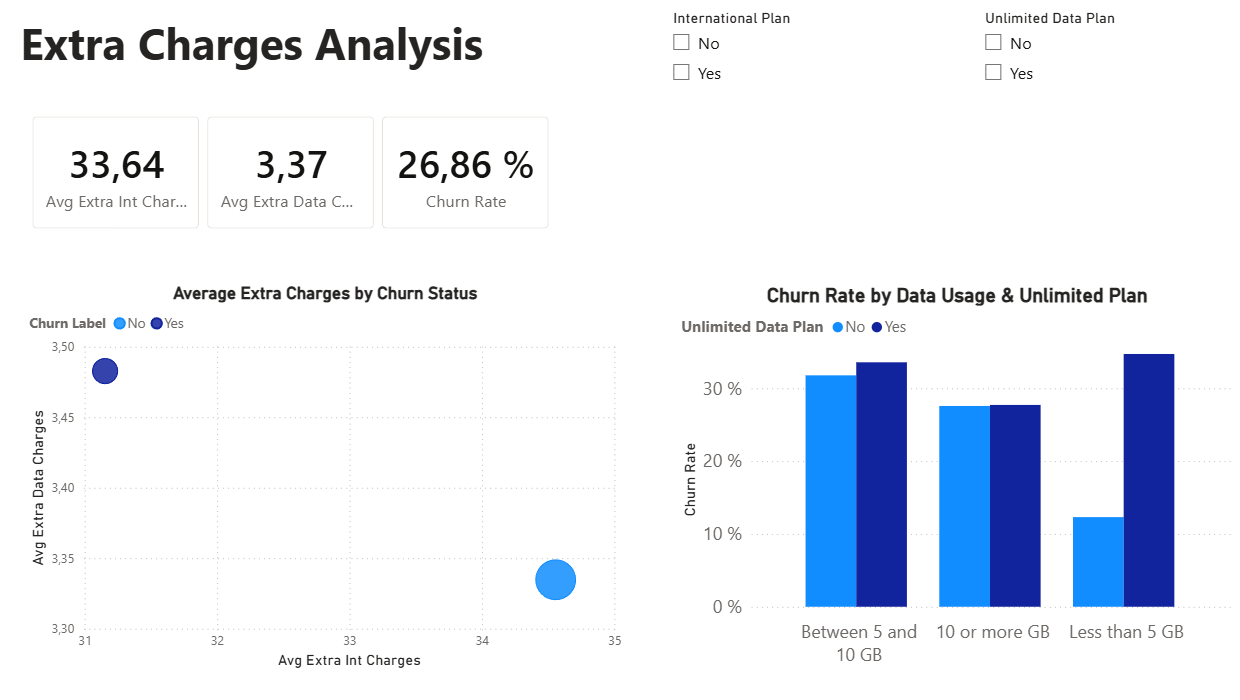

This screenshot's page, from the dashboard's own definition file:
{"tool":"powerbi","page":{"name":"Extra Charges","canvas":[1280,720],"ordinal":3},"visuals":[{"type":"clusteredColumnChart","title":"Churn Rate by Data Usage & Unlimited Plan","fields":{"Category":["Databel - Data.Grouped Consumption"],"Y":["Databel - Data.Churn Rate"],"Series":["Databel - Data.Unlimited Data Plan"]},"box":[687.4,292.1,547.2,379.6],"z":0},{"type":"cardVisual","fields":{"Data":["Databel - Data.Avg Extra Int Charges","Databel - Data.Avg Extra Data Charges","Databel - Data.Churn Rate"]},"box":[44.3,112.8,538.8,143.4],"z":1000},{"type":"textbox","box":[44.3,24.3,550.4,95.9],"z":2000},{"type":"scatterChart","title":"Average Extra Charges by Churn Status","fields":{"X":["Databel - Data.Avg Extra Int Charges"],"Y":["Databel - Data.Avg Extra Data Charges"],"Series":["Databel - Data.Churn Label"],"Size":["Databel - Data.Number of Customers"]},"box":[53.8,292.1,586.2,379.6],"z":3000},{"type":"slicer","fields":{"Values":["Databel - Data.Int Plan"]},"box":[671.6,20,272,101.2],"z":4000},{"type":"slicer","fields":{"Values":["Databel - Data.Unlimited Data Plan"]},"box":[975.3,20,199.3,92.8],"z":5000}]}

Visuals, with their boxes in screenshot pixels (x1, y1, x2, y2), scaled from the page's 1280x720 canvas onto the 1240x700 screenshot:
"Churn Rate by Data Usage & Unlimited Plan" clusteredColumnChart: x1=666 y1=284 x2=1196 y2=653
cardVisual - Databel - Data.Avg Extra Int Charges x Databel - Data.Avg Extra Data Charges: x1=43 y1=110 x2=565 y2=249
textbox: x1=43 y1=24 x2=576 y2=117
"Average Extra Charges by Churn Status" scatterChart: x1=52 y1=284 x2=620 y2=653
slicer - Databel - Data.Int Plan: x1=651 y1=19 x2=914 y2=118
slicer - Databel - Data.Unlimited Data Plan: x1=945 y1=19 x2=1138 y2=110
